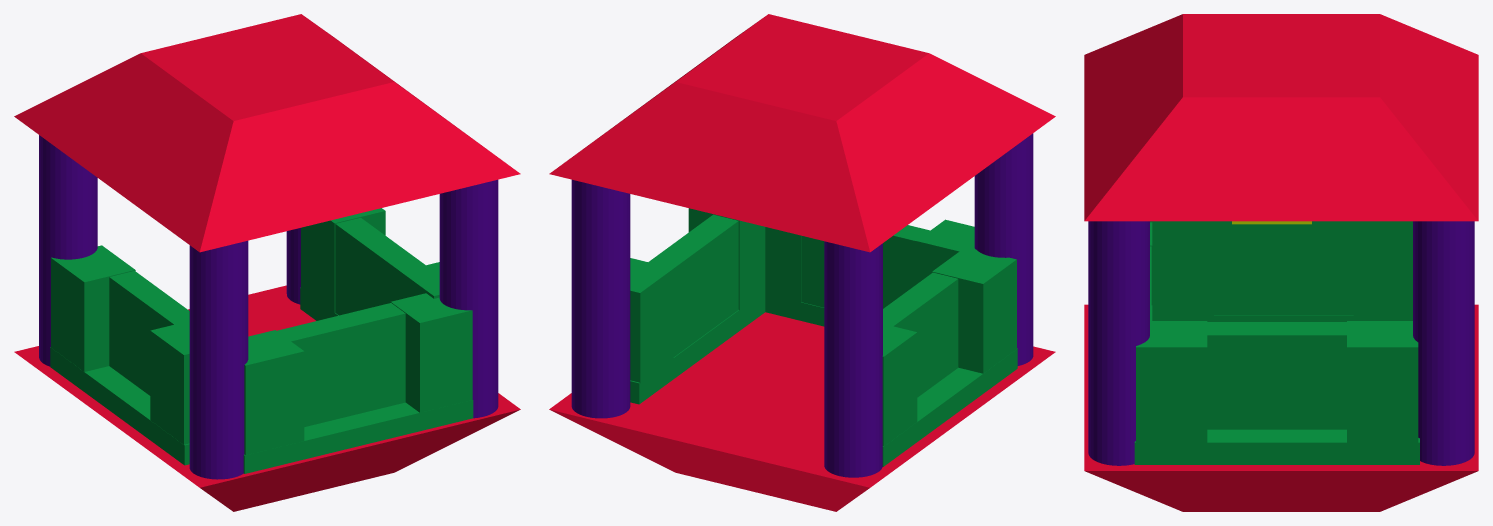
File: CasaV1.fbx
The picture shows the model from 3 angles, left to right: view 1: azimuth 30°, elevation 25°; view 2: azimuth 150°, elevation 25°; view 3: azimuth 270°, elevation 25°; orthographic projection. The views are drawn at different scales.
Parts seen in each view (by area): view 1: CasaM2-C1; view 2: CasaM2-C1; view 3: CasaM2-C1.
Boxes of the visible parts, x1=… form: CasaM2-C1: x1=14, y1=14, x2=520, y2=511; CasaM2-C1: x1=549, y1=14, x2=1055, y2=511; CasaM2-C1: x1=1084, y1=14, x2=1478, y2=511.
Size of the model in its own units: 2950 by 3430 by 2954.
